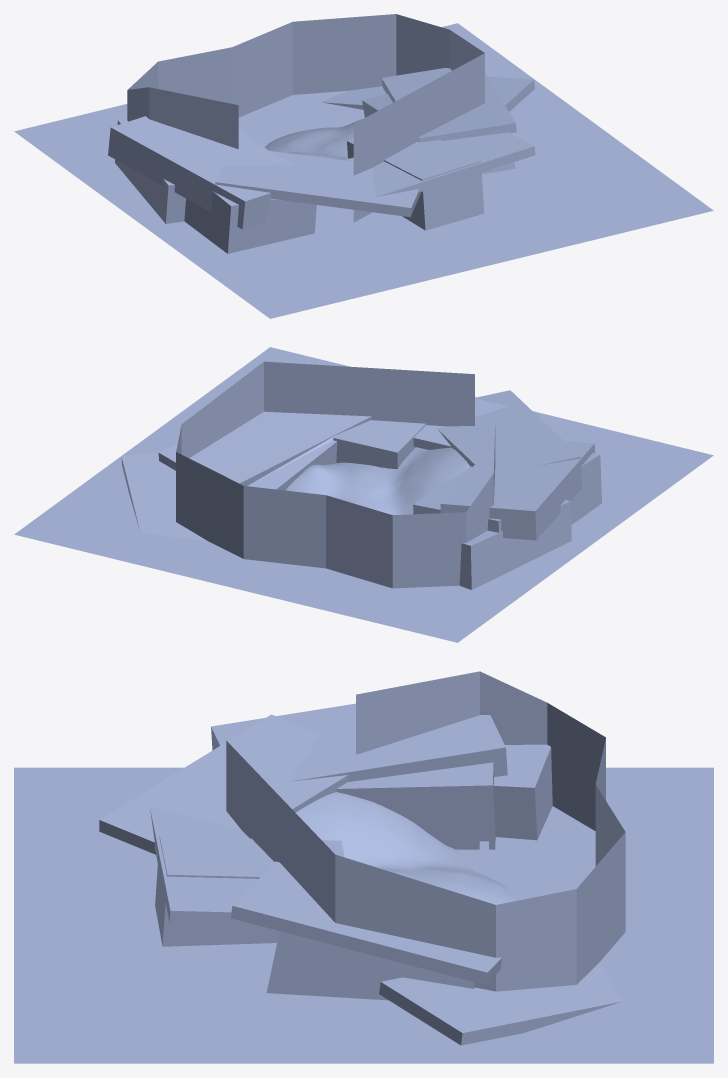
File: Valley.fbx
The picture shows the model from 3 angles, top to bottom: view 1: azimuth 30°, elevation 25°; view 2: azimuth 150°, elevation 25°; view 3: azimuth 270°, elevation 25°; orthographic projection. The views are drawn at different scales.
Parts seen in each view (by area): view 1: Plane, Cube_4, Cube_2_1, Sphere; view 2: Cube_2_1, Cube_4, Plane, Sphere; view 3: Plane, Cube_4, Cube_2_1, Sphere.
Part boxes in pixels (box(x1,y1,x2,y2)): Plane: box(14, 23, 713, 318); Cube_4: box(108, 68, 535, 253); Cube_2_1: box(127, 14, 484, 222); Sphere: box(265, 118, 363, 160); Cube_2_1: box(176, 361, 495, 588); Cube_4: box(121, 390, 601, 589); Plane: box(14, 347, 713, 642); Sphere: box(285, 447, 470, 514); Plane: box(14, 767, 713, 1063); Cube_4: box(99, 703, 622, 1045); Cube_2_1: box(226, 671, 625, 991); Sphere: box(296, 792, 516, 904).
Bounding box in the file's own units: 51467 × 12671 × 51467.
